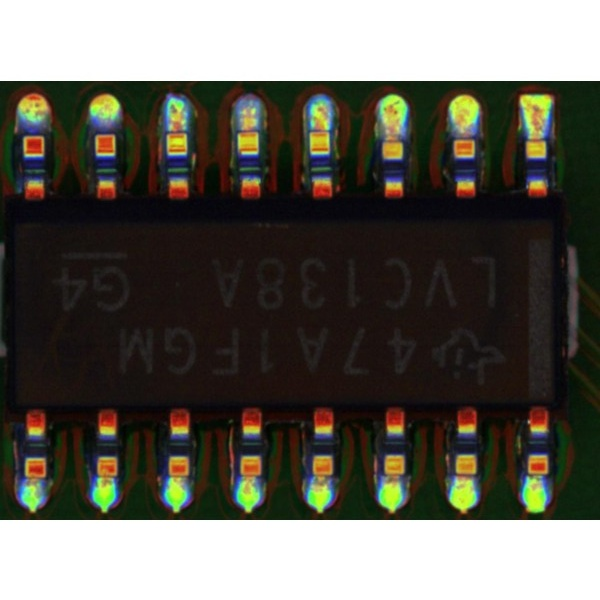Bad_podu: (170, 116, 185, 145), (242, 117, 257, 146), (314, 116, 328, 146), (385, 126, 402, 148)
